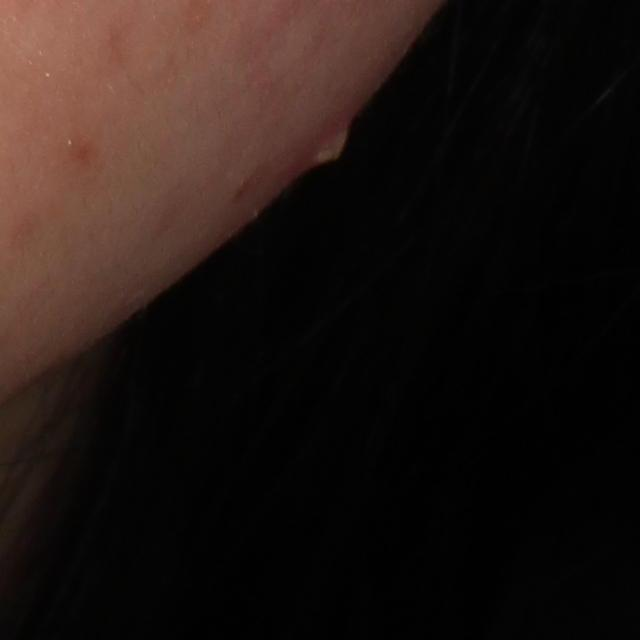pustule: (312, 120, 352, 169)
